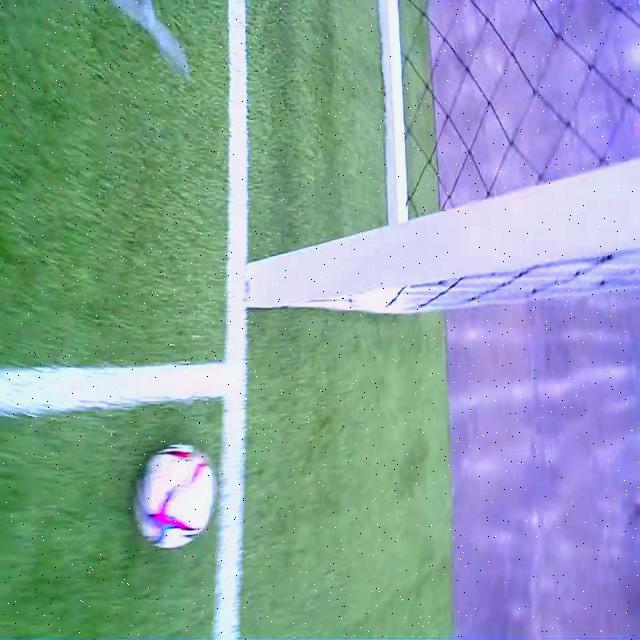ball: (135, 446, 214, 550)
